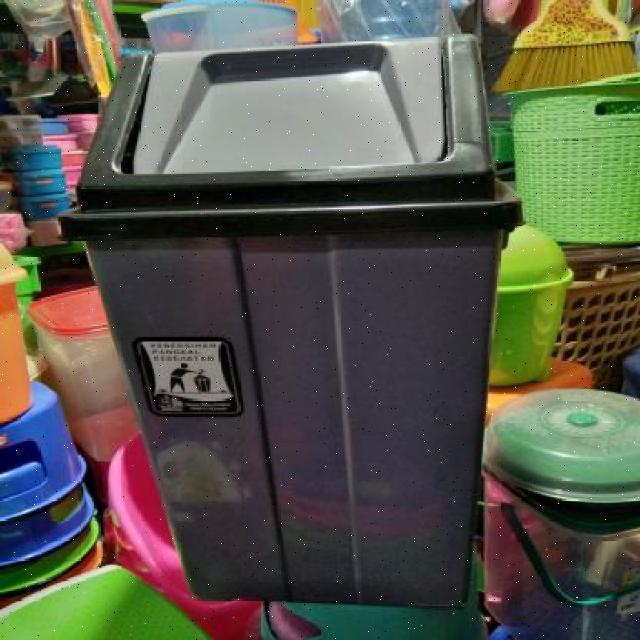garbage container: (50, 29, 529, 618)
